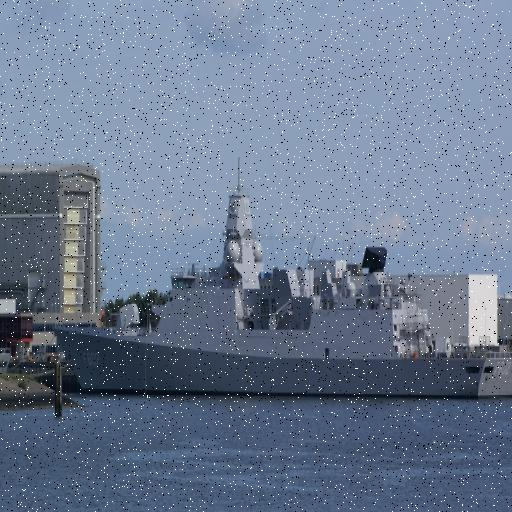Fragata: (52, 161, 512, 407)
